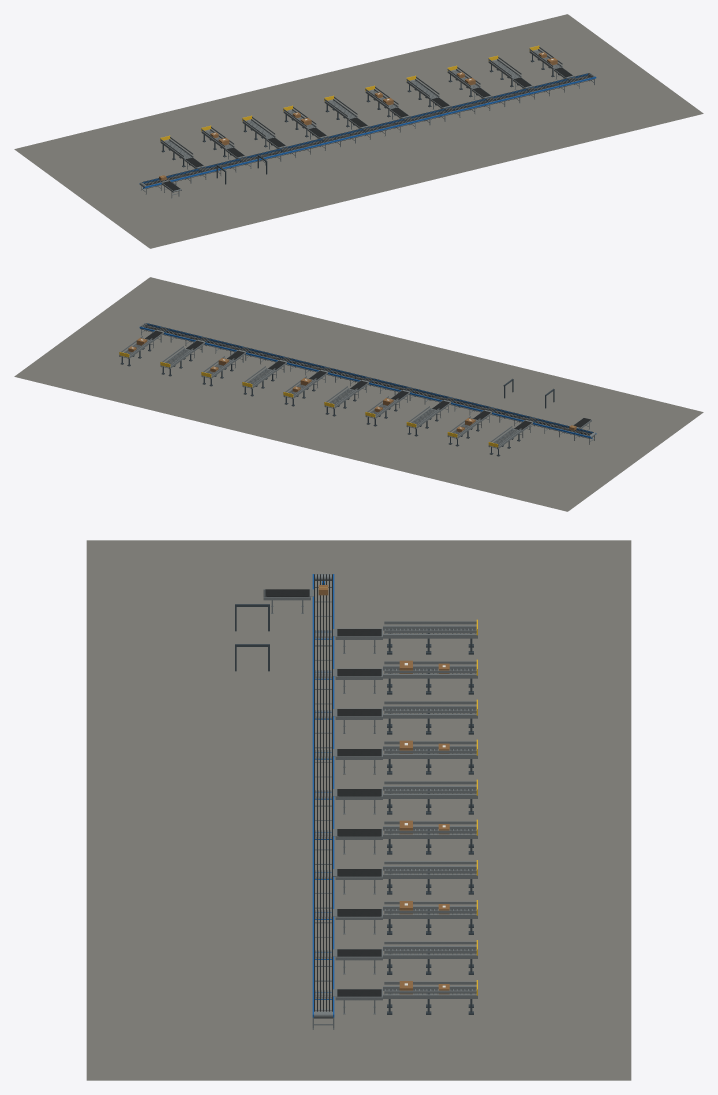
The picture shows the model from 3 angles, top to bottom: view 1: azimuth 30°, elevation 25°; view 2: azimuth 150°, elevation 25°; view 3: azimuth 270°, elevation 25°; orthographic projection. The views are drawn at different scales.
Visible parts, largest first — view 1: Studio ground, Outfeed side beams, side-channel--1, Outfeed containment guides, Outfeed roller beds, side-channel-1, Outfeed legs and footplates, Illustrative accumulated cartons, carrying-belt-1, carrying-belt-6, carrying-belt-0, carrying-belt-5 (+5 smaller); view 2: Studio ground, Outfeed side beams, Outfeed containment guides, side-channel--1, side-channel-1, Outfeed roller beds, Outfeed legs and footplates, Illustrative accumulated cartons, carrying-belt-5, carrying-belt-0, carrying-belt-1, carrying-belt-2 (+4 smaller); view 3: Studio ground, Outfeed side beams, Outfeed containment guides, Outfeed legs and footplates, Outfeed roller beds, Illustrative accumulated cartons, side-channel--1.
Boxes of the visible parts, left/top/right/bottom form: Studio ground: left=14, top=14, right=703, bottom=248; Outfeed side beams: left=160, top=49, right=562, bottom=159; side-channel--1: left=144, top=76, right=596, bottom=188; Outfeed containment guides: left=160, top=46, right=562, bottom=156; Outfeed roller beds: left=164, top=50, right=561, bottom=159; side-channel-1: left=139, top=73, right=587, bottom=184; Outfeed legs and footplates: left=161, top=51, right=559, bottom=167; Illustrative accumulated cartons: left=210, top=52, right=557, bottom=145; carrying-belt-1: left=146, top=75, right=592, bottom=184; carrying-belt-6: left=142, top=73, right=589, bottom=182; carrying-belt-0: left=146, top=76, right=593, bottom=185; carrying-belt-5: left=142, top=73, right=589, bottom=182; Studio ground: left=14, top=277, right=703, bottom=511; Outfeed side beams: left=119, top=337, right=521, bottom=449; Outfeed containment guides: left=121, top=336, right=521, bottom=446; side-channel--1: left=147, top=323, right=596, bottom=434; side-channel-1: left=139, top=326, right=590, bottom=438; Outfeed roller beds: left=120, top=340, right=517, bottom=448; Outfeed legs and footplates: left=120, top=344, right=520, bottom=456; Illustrative accumulated cartons: left=128, top=338, right=475, bottom=432; carrying-belt-5: left=142, top=325, right=589, bottom=434; carrying-belt-0: left=146, top=323, right=593, bottom=432; carrying-belt-1: left=145, top=323, right=593, bottom=432; carrying-belt-2: left=144, top=324, right=591, bottom=433; Studio ground: left=86, top=540, right=631, bottom=1080; Outfeed side beams: left=383, top=625, right=477, bottom=998; Outfeed containment guides: left=384, top=621, right=476, bottom=993; Outfeed legs and footplates: left=387, top=629, right=473, bottom=1014; Outfeed roller beds: left=384, top=628, right=476, bottom=994; Illustrative accumulated cartons: left=399, top=660, right=449, bottom=994; side-channel--1: left=312, top=574, right=313, bottom=1017.
Bounding box in the file's own units: 54 × 2.14 × 23.
Materials: 13 (8 with a texture image).
